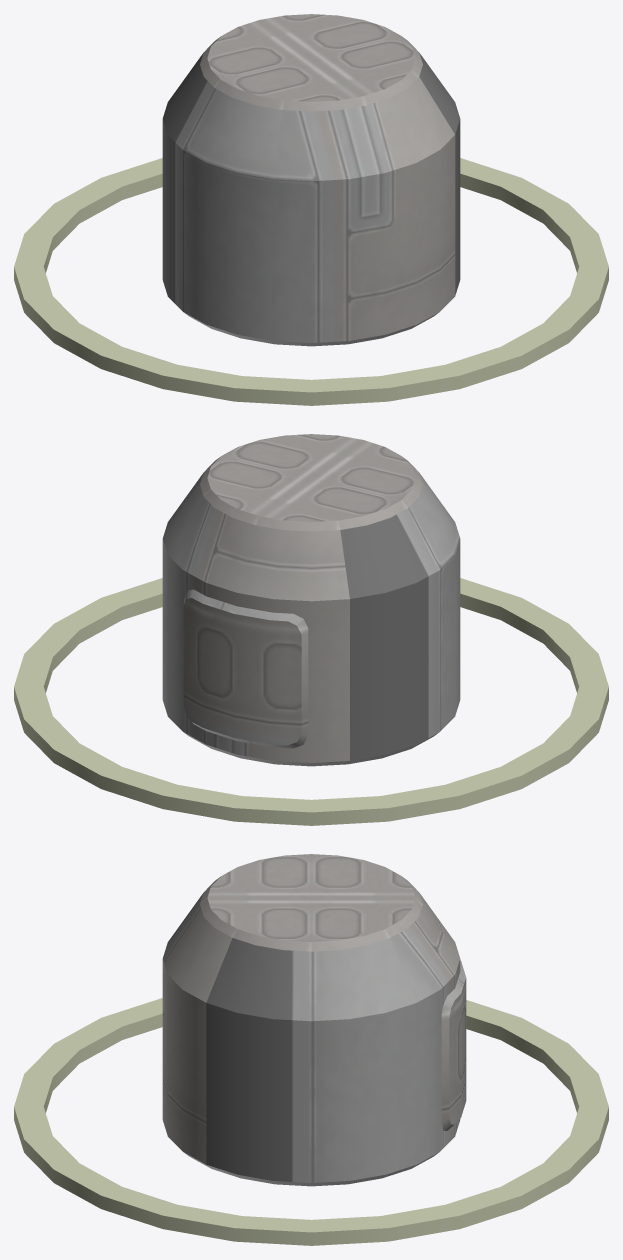
The model's file is Vega_Habitation_3_1.obj.
3 views of the same model, one above another, from view 1: azimuth 30°, elevation 25°; view 2: azimuth 150°, elevation 25°; view 3: azimuth 270°, elevation 25° (orthographic).
Visible parts, largest first — view 1: Vega_Habitation_2_1, Cylinder3; view 2: Vega_Habitation_2_1, Cylinder3; view 3: Vega_Habitation_2_1, Cylinder3.
Boxes of the visible parts, x1,y1,x2,y2 form: Vega_Habitation_2_1: (162, 14, 460, 346); Cylinder3: (14, 158, 608, 405); Vega_Habitation_2_1: (162, 434, 460, 766); Cylinder3: (14, 578, 608, 825); Vega_Habitation_2_1: (162, 854, 466, 1186); Cylinder3: (14, 998, 608, 1245).
Size of the model in its own units: 2.5 by 1.06 by 2.5.
